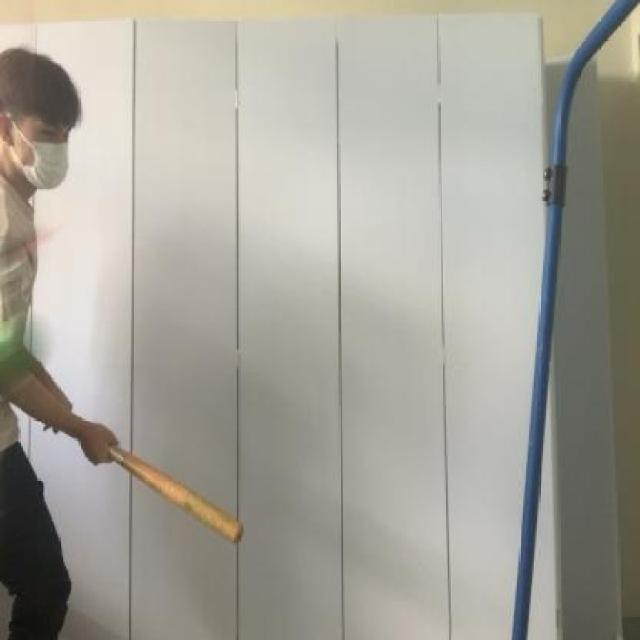baseball: (0, 294, 57, 401)
